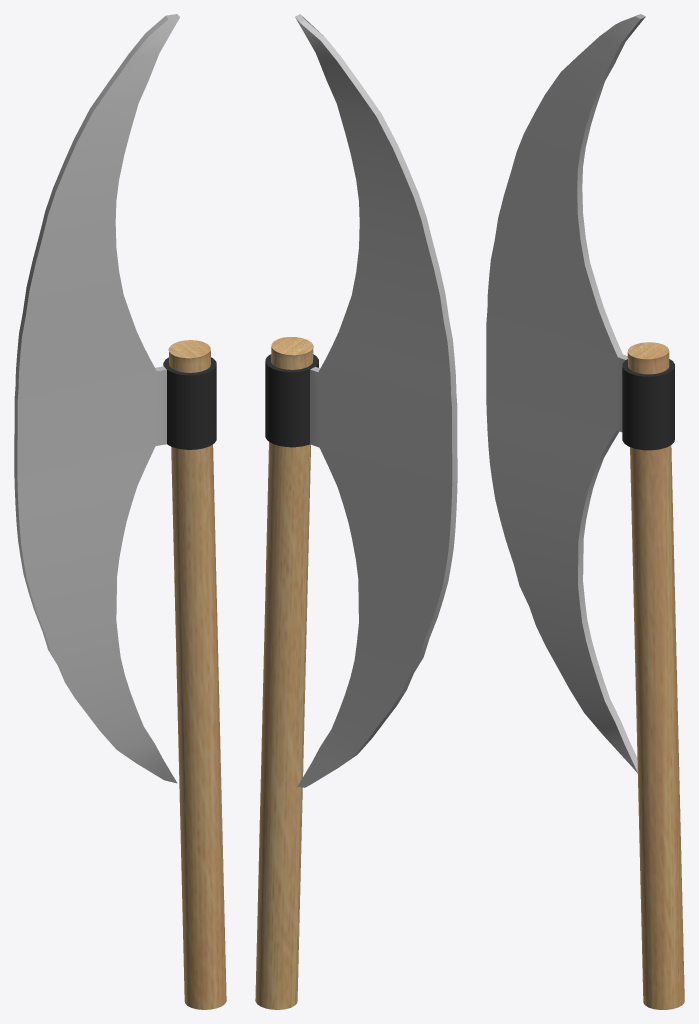
File: SmallHalberd.fbx
3 views of the same model, side by side, from view 1: azimuth 30°, elevation 25°; view 2: azimuth 150°, elevation 25°; view 3: azimuth 330°, elevation 25° (orthographic).
Visible parts, largest first — view 1: pCylinder10, pCylinder9; view 2: pCylinder10, pCylinder9; view 3: pCylinder10, pCylinder9.
Part boxes in pixels (x1,y1,x2,y2): pCylinder10: [14, 14, 216, 783]; pCylinder9: [168, 340, 226, 1009]; pCylinder10: [265, 14, 457, 787]; pCylinder9: [255, 337, 313, 1009]; pCylinder10: [486, 14, 674, 772]; pCylinder9: [627, 342, 684, 1009].
Bounding box in the file's own units: 0.4552 × 2.12 × 0.1045.
1 material, 1 textured.
